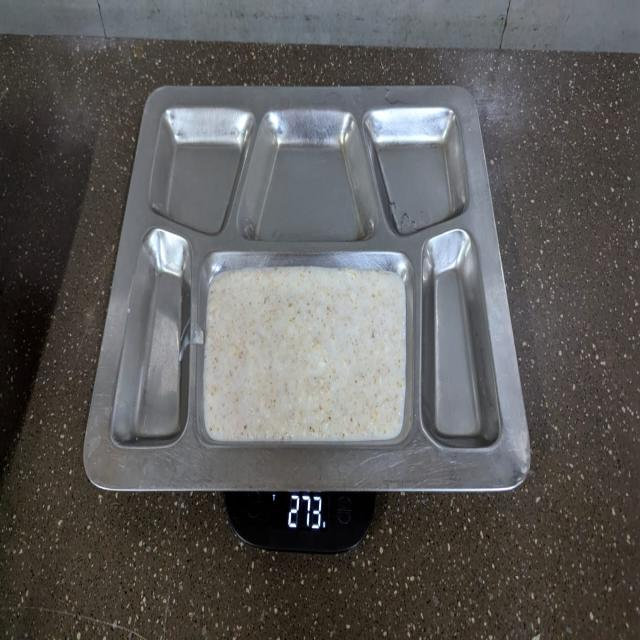Porridge: (207, 268, 407, 440)
